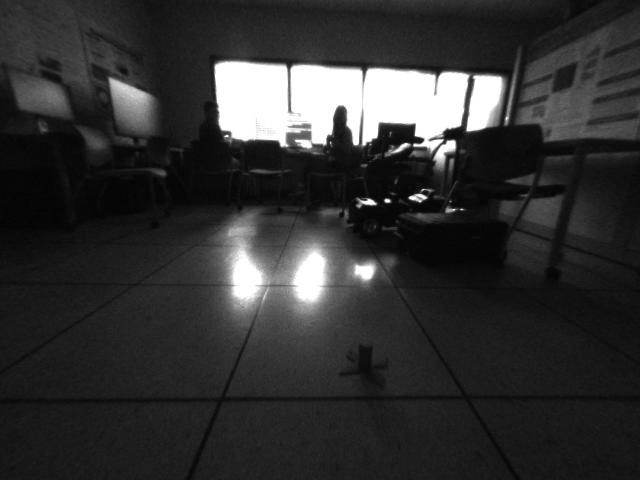x: (337, 339, 391, 387)
